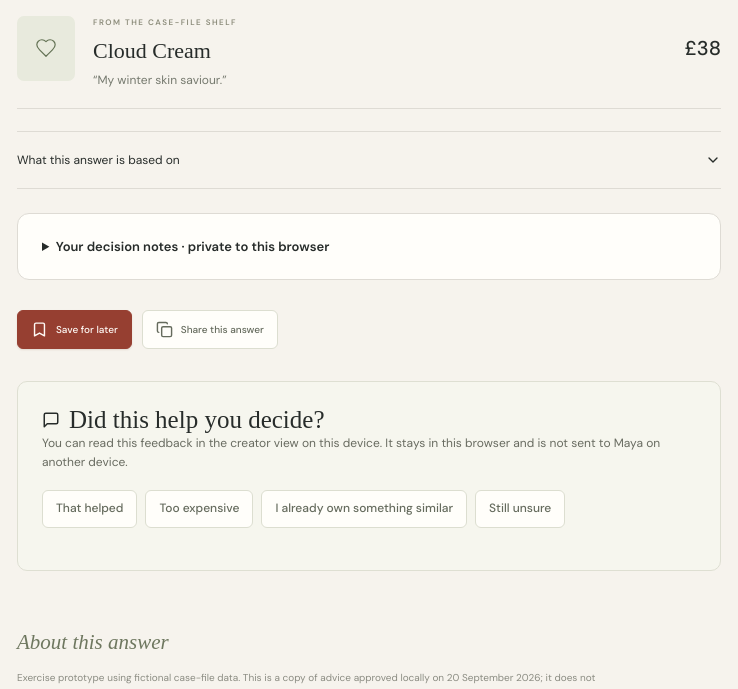
Test: Additional review scenarios › offers a selectable link when clipboard permission is unavailable
(page scrolled)
Click the button "Share this answer".
click(210, 329)  # box 142,310 -> 278,349
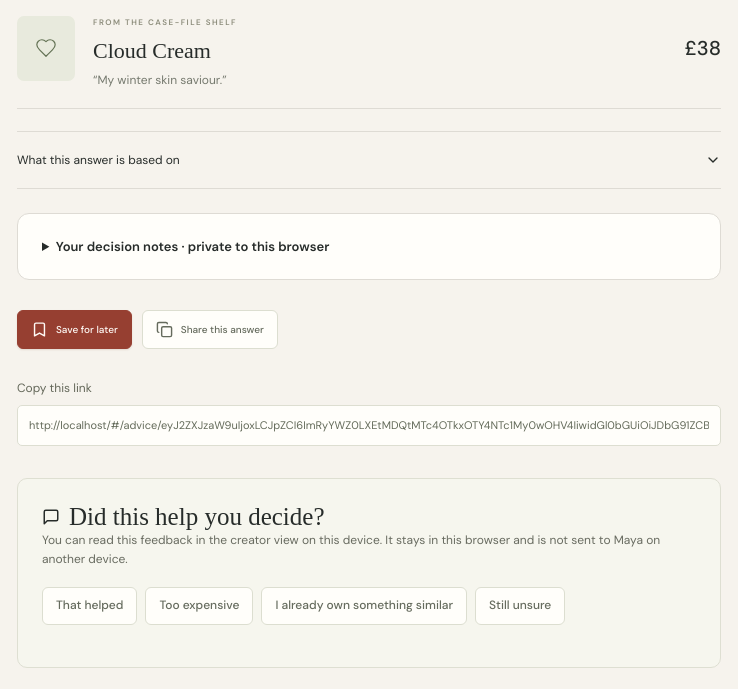
Expected: the field labelled "Copy this link" is shown, 17,405 -> 721,446
